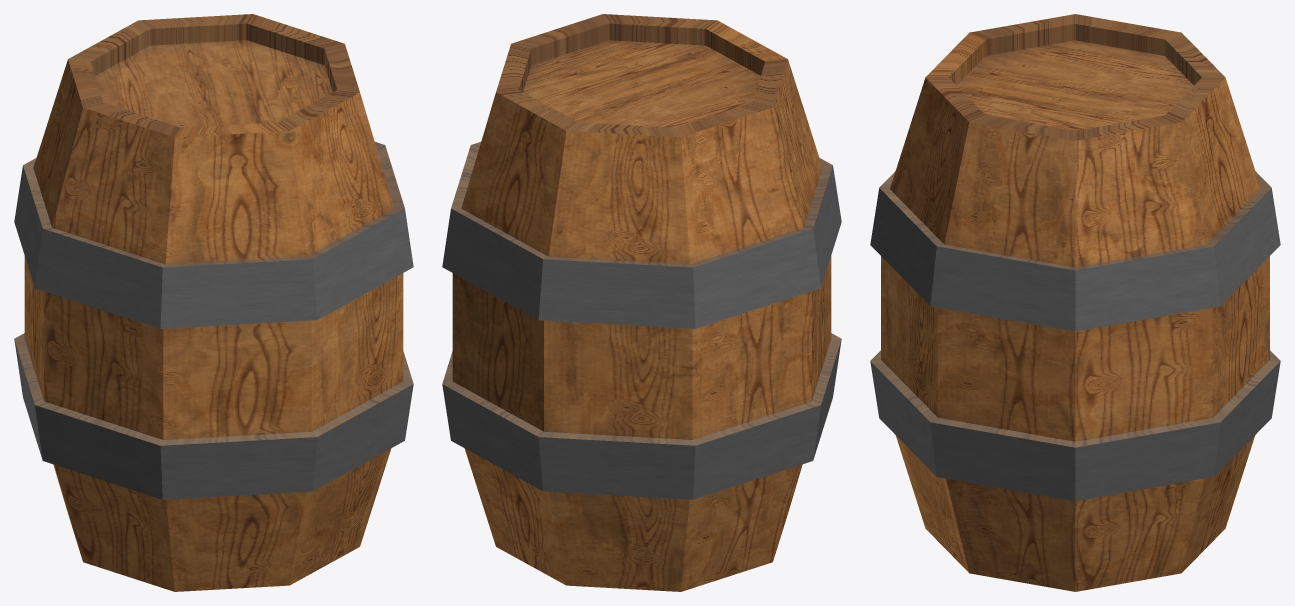
Rendered from barrlfbx.fbx.
3 renders of one model, left to right at view 1: azimuth 30°, elevation 25°; view 2: azimuth 150°, elevation 25°; view 3: azimuth 270°, elevation 25°, orthographic.
Parts seen in each view (by area): view 1: barrel; view 2: barrel; view 3: barrel.
Boxes of the visible parts, x1=… form: barrel: x1=14, y1=14, x2=413, y2=591; barrel: x1=442, y1=14, x2=841, y2=591; barrel: x1=870, y1=14, x2=1280, y2=591.
Size of the model in its own units: 2.88 by 3.49 by 2.88.
1 material, 1 textured.
